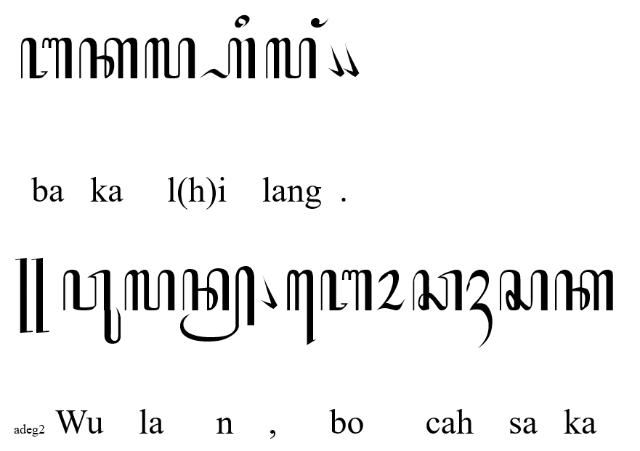-n: (180, 266, 254, 342)
_h: (200, 37, 256, 79), (466, 270, 492, 348)
adeg2: (15, 258, 49, 334)
b: (320, 269, 372, 312), (20, 38, 72, 78)
c: (412, 269, 462, 311)
e1: (286, 269, 316, 345)
i: (234, 14, 250, 28)
k: (78, 37, 138, 79), (554, 271, 614, 312)
kom: (342, 43, 360, 77), (261, 274, 277, 310), (328, 43, 344, 77)
l: (144, 37, 196, 79), (125, 271, 175, 312), (266, 38, 316, 78)
ng: (310, 18, 330, 28)
o: (376, 271, 406, 312)
s: (499, 269, 548, 311)
wu: (64, 270, 120, 344)
